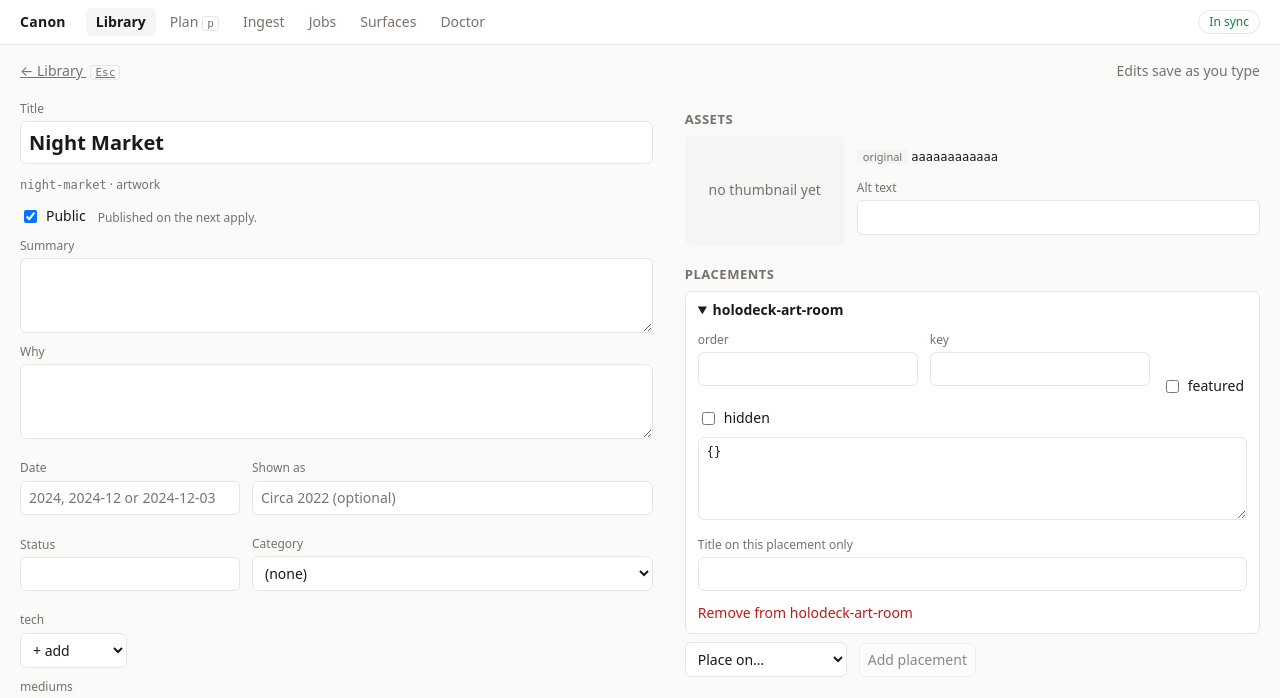
Test: Item editor › saves a field as a merge patch with If-Match
Replace the text in the field showing "Night Market" with "Lanterns": (336, 142) 20,121 -> 653,164
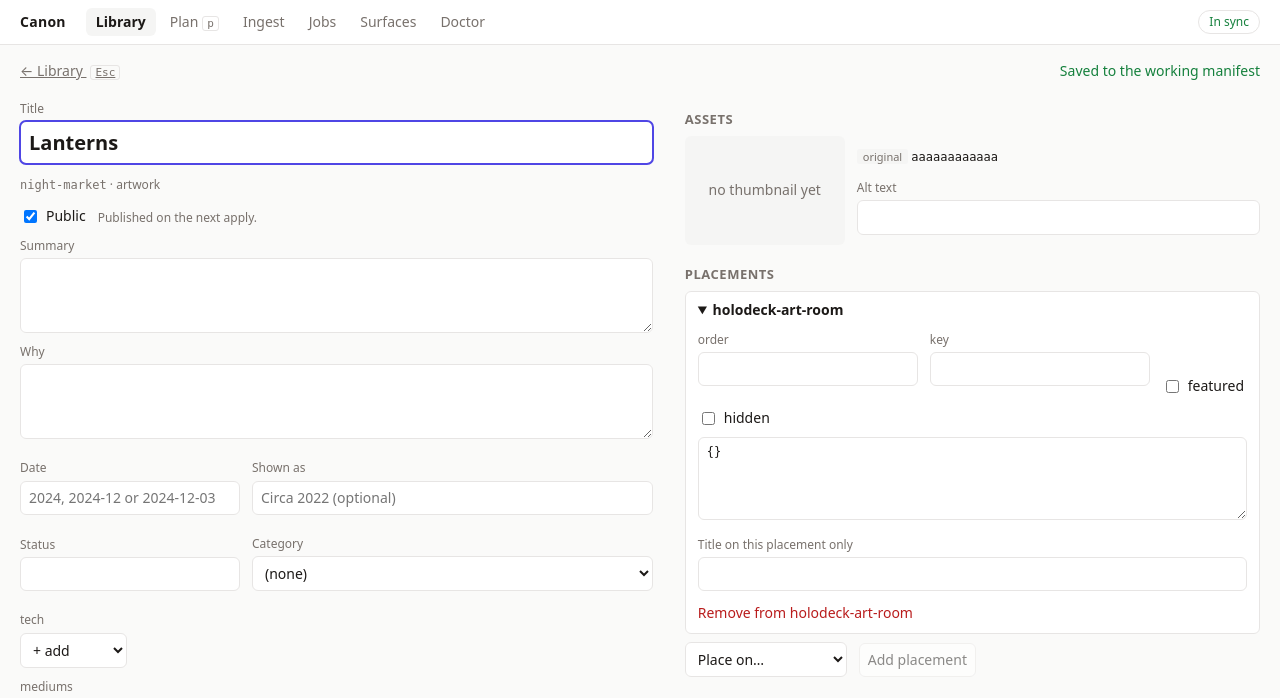
Expected: the text "Saved to the working manifest" is shown, 1060,61 -> 1260,82
